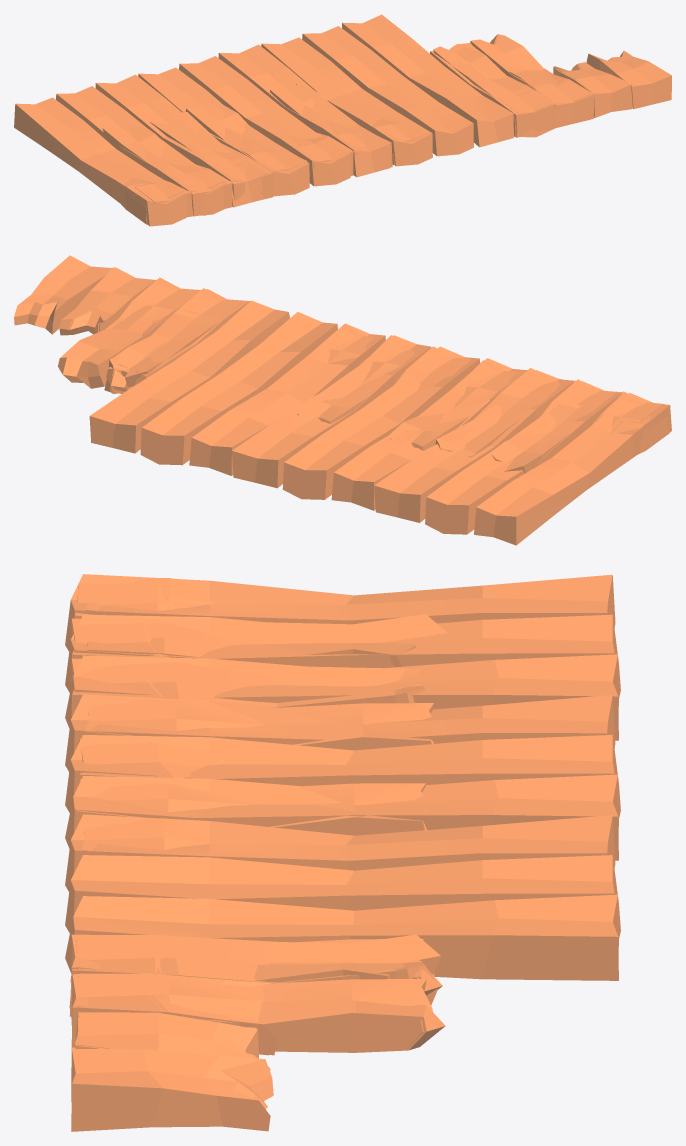
3 renders of one model, top to bottom at view 1: azimuth 30°, elevation 25°; view 2: azimuth 150°, elevation 25°; view 3: azimuth 270°, elevation 25°, orthographic. The views are drawn at different scales.
Parts seen in each view (by area): view 1: WoodPlank6__1_, WoodPlank4, WoodPlank5, WoodPlank4_1, WoodPlank6, WoodPlank5_1, WoodPlank5__1_, WoodPlank6_2, WoodPlank4__1_, WoodPlank11_1, WoodPlank9_1, WoodPlank7_4 (+21 smaller); view 2: WoodPlank6__1_, WoodPlank4, WoodPlank5, WoodPlank4_1, WoodPlank6, WoodPlank5_1, WoodPlank5__1_, WoodPlank4__1_, WoodPlank6_2, WoodPlank11_1, WoodPlank7_1, WoodPlank9_1 (+17 smaller); view 3: WoodPlank5, WoodPlank4, WoodPlank4_1, WoodPlank5_1, WoodPlank6, WoodPlank6__1_, WoodPlank11_1, WoodPlank4__1_, WoodPlank5__1_, WoodPlank6_2, WoodPlank7_4, WoodPlank7_1 (+20 smaller).
Part boxes in pixels (x1,y1,x2,y2): WoodPlank6__1_: (14, 97, 186, 226); WoodPlank4: (302, 26, 473, 156); WoodPlank5: (342, 14, 513, 147); WoodPlank4_1: (179, 56, 350, 186); WoodPlank6: (261, 37, 432, 166); WoodPlank5_1: (218, 44, 390, 177); WoodPlank5__1_: (95, 74, 267, 207); WoodPlank6_2: (138, 67, 309, 196); WoodPlank4__1_: (56, 86, 227, 216); WoodPlank11_1: (586, 51, 671, 109); WoodPlank9_1: (102, 125, 223, 215); WoodPlank7_4: (185, 101, 307, 170); WoodPlank6__1_: (474, 393, 671, 545); WoodPlank4: (140, 312, 337, 465); WoodPlank5: (89, 300, 289, 453); WoodPlank4_1: (282, 346, 479, 499); WoodPlank6: (189, 323, 385, 475); WoodPlank5_1: (232, 335, 431, 488); WoodPlank5__1_: (374, 370, 573, 522); WoodPlank4__1_: (425, 381, 621, 534); WoodPlank6_2: (331, 358, 527, 510); WoodPlank11_1: (14, 255, 112, 334); WoodPlank7_1: (58, 279, 198, 388); WoodPlank9_1: (491, 384, 617, 473); WoodPlank5: (65, 894, 618, 980); WoodPlank4: (65, 855, 620, 938); WoodPlank4_1: (65, 735, 620, 817); WoodPlank5_1: (65, 774, 618, 860); WoodPlank6: (65, 814, 615, 891); WoodPlank6__1_: (65, 574, 615, 651); WoodPlank11_1: (71, 1047, 273, 1131); WoodPlank4__1_: (65, 614, 620, 697); WoodPlank5__1_: (65, 654, 618, 740); WoodPlank6_2: (65, 694, 615, 771); WoodPlank7_4: (85, 699, 434, 750); WoodPlank7_1: (78, 975, 445, 1052).
Bounding box in the file's own units: 859 × 44.39 × 396.
